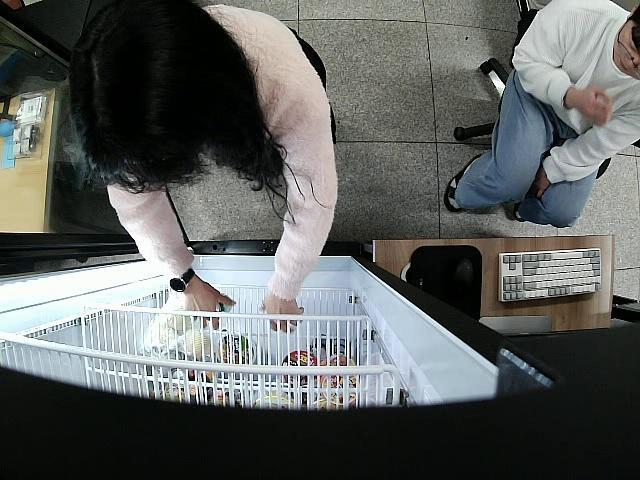12_chilsungCider: (213, 294, 234, 313)
